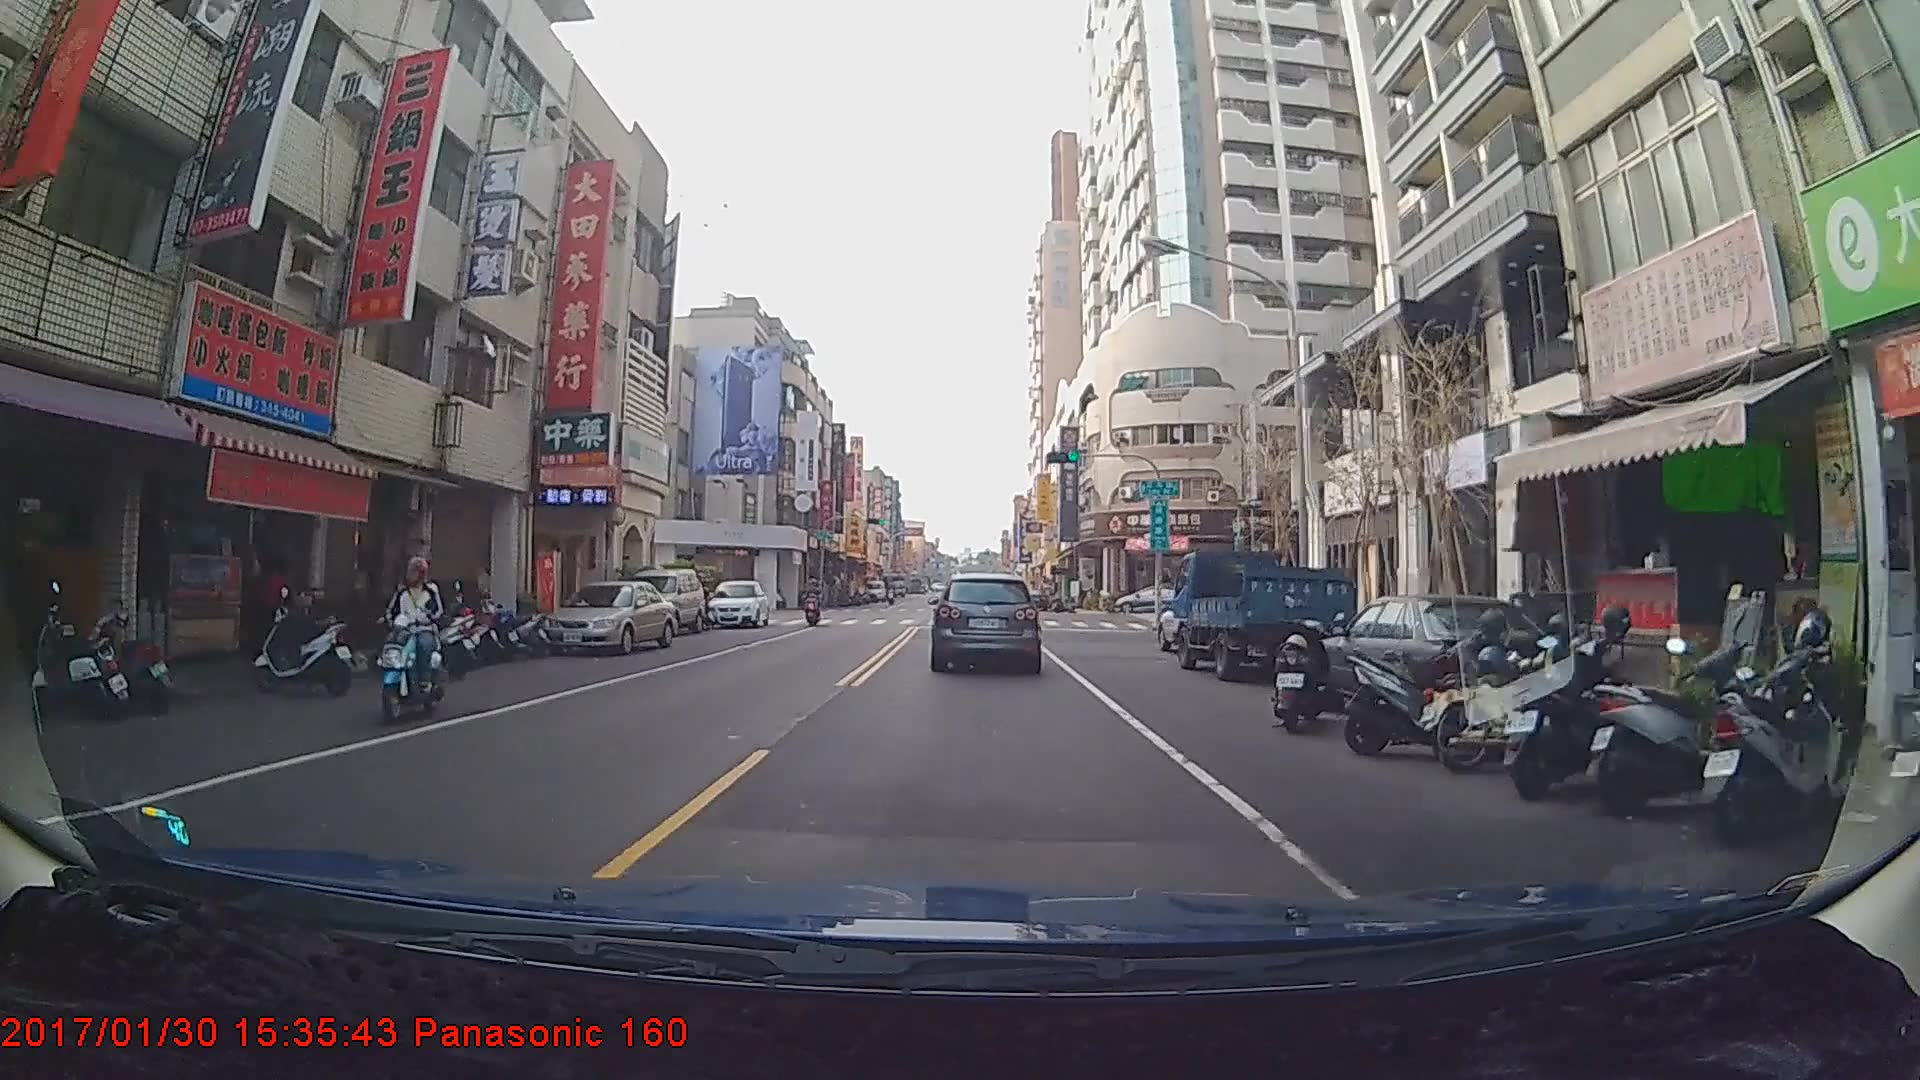rider: (372, 552, 455, 720), (803, 578, 825, 626)
vehicle: (1171, 548, 1358, 680), (930, 572, 1041, 672), (537, 577, 675, 653), (614, 564, 707, 637), (706, 578, 770, 628), (1115, 581, 1188, 613), (861, 578, 886, 601)
